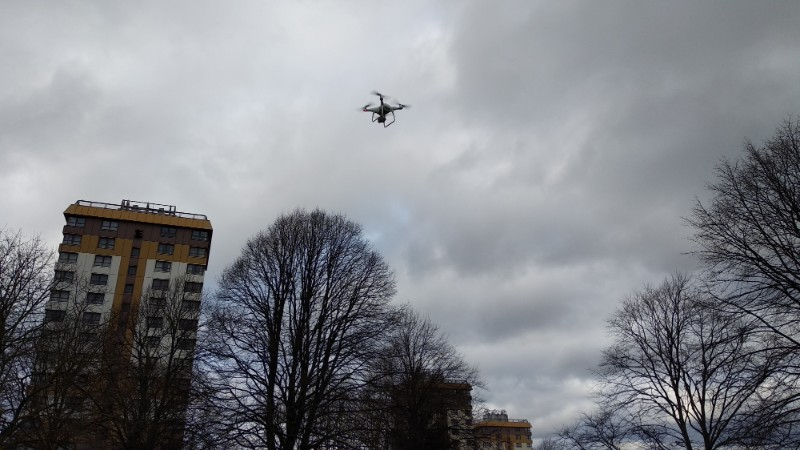drone: (357, 90, 410, 125)
